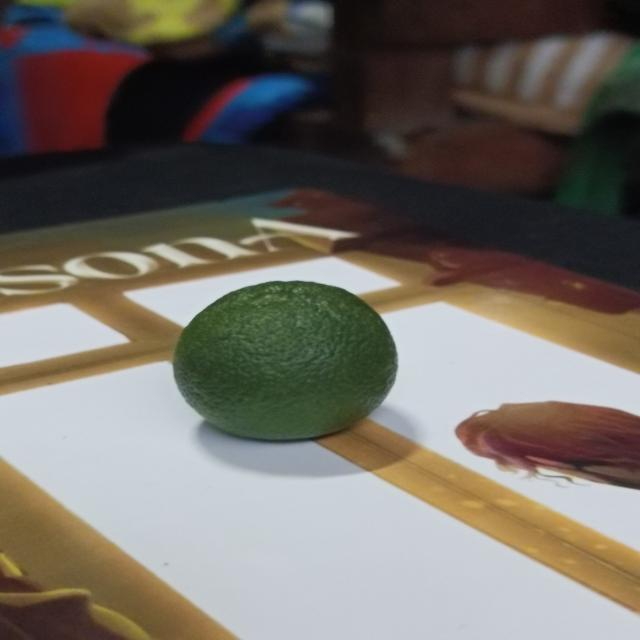heathy: (172, 281, 398, 445)
